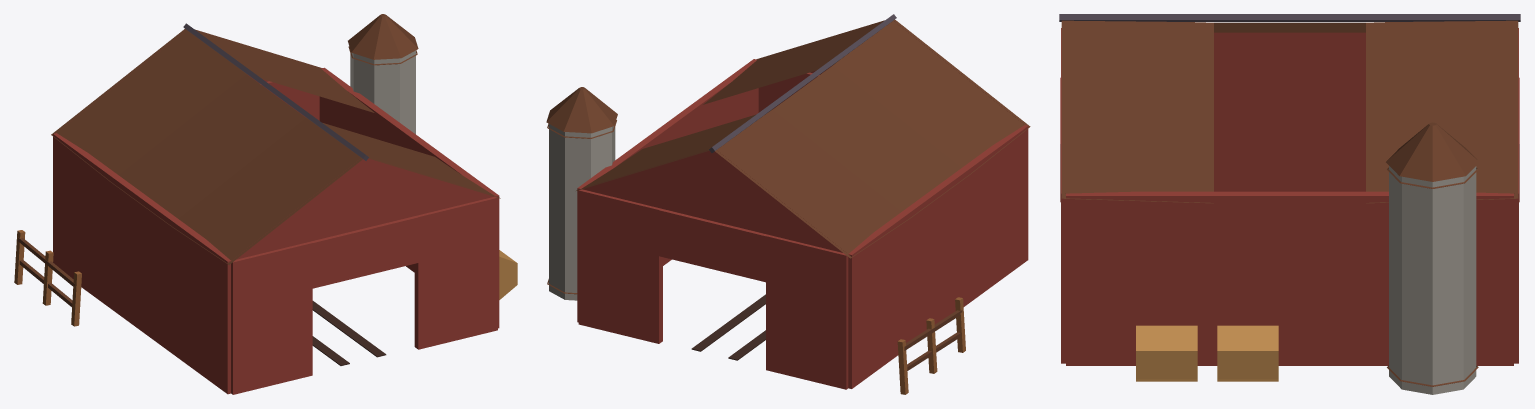
File: bld.farm-barn-ruin.lod2.glb
3 views of the same model, side by side, from view 1: azimuth 30°, elevation 25°; view 2: azimuth 150°, elevation 25°; view 3: azimuth 270°, elevation 25° (orthographic). The views are drawn at different scales.
Parts seen in each view (by area): view 1: body; view 2: body; view 3: body.
Boxes of the visible parts, left/top/right/bottom form: body: left=14, top=14, right=517, bottom=394; body: left=546, top=14, right=1030, bottom=394; body: left=1059, top=14, right=1520, bottom=394.
Size of the model in its own units: 9.94 by 5.26 by 8.24.
